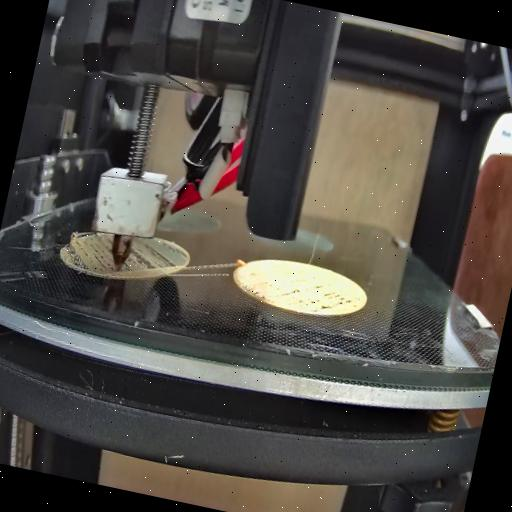under_extrusion: (281, 276, 365, 320), (56, 223, 118, 278), (129, 239, 189, 275), (233, 272, 275, 306)
